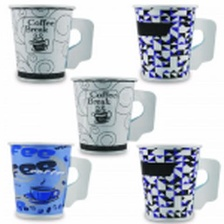paper_cup: (64, 69, 159, 159), (1, 135, 97, 223), (128, 0, 224, 87), (3, 0, 98, 87), (131, 136, 224, 224)
